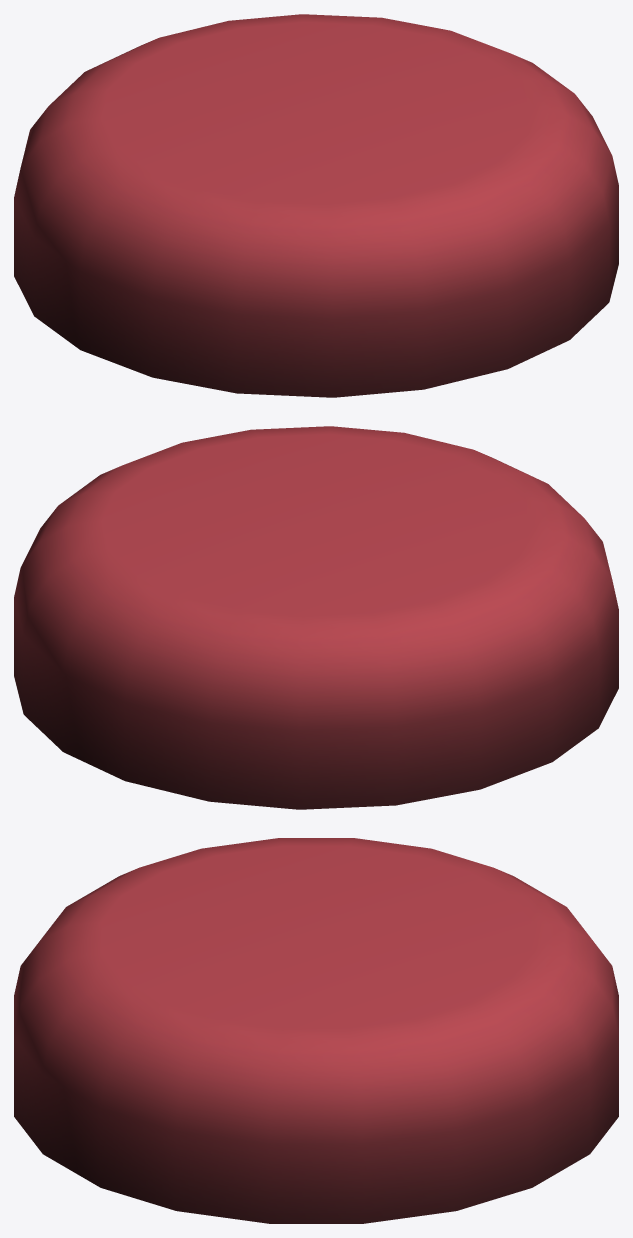
Rendered from bottone_v01.fbx.
3 renders of one model, top to bottom at view 1: azimuth 30°, elevation 25°; view 2: azimuth 150°, elevation 25°; view 3: azimuth 270°, elevation 25°, orthographic.
Parts seen in each view (by area): view 1: bottone_v01; view 2: bottone_v01; view 3: bottone_v01.
Boxes of the visible parts, bbox=[...] form: bottone_v01: bbox=[14, 14, 618, 397]; bottone_v01: bbox=[14, 426, 618, 809]; bottone_v01: bbox=[14, 838, 618, 1223].
Size of the model in its own units: 2.53 by 0.7323 by 2.53.
